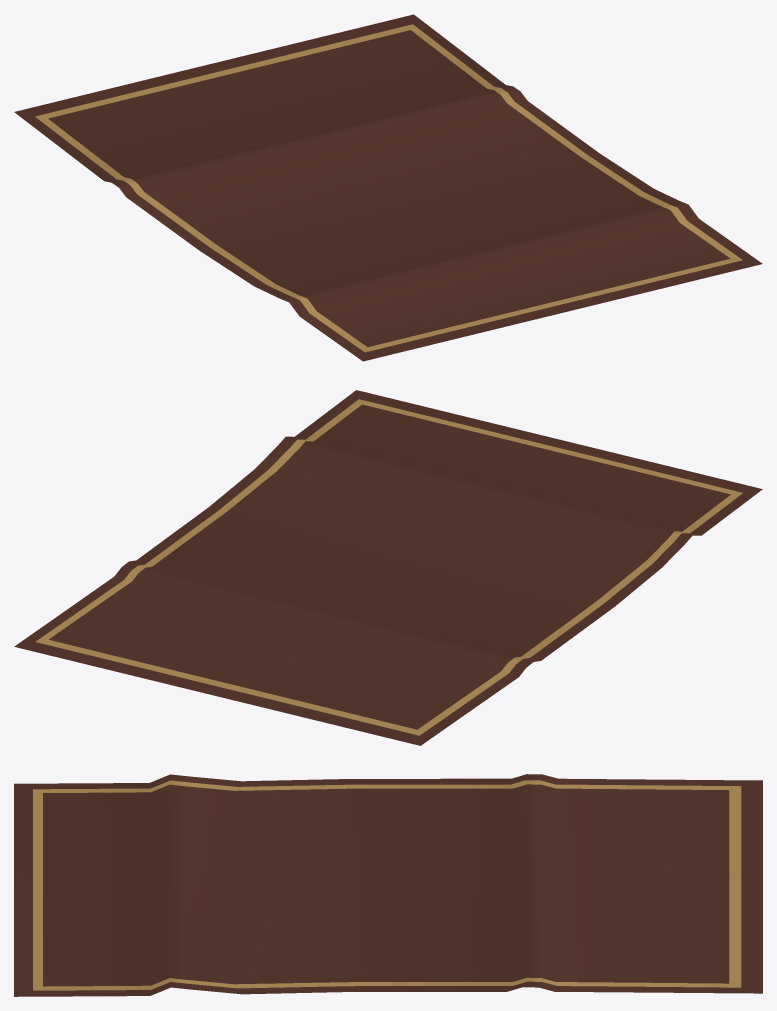
Rendered from Carpet_1.gltf.
3 views of the same model, one above another, from view 1: azimuth 30°, elevation 25°; view 2: azimuth 150°, elevation 25°; view 3: azimuth 270°, elevation 25° (orthographic). The views are drawn at different scales.
Visible parts, largest first — view 1: Carpet_1; view 2: Carpet_1; view 3: Carpet_1.
Boxes of the visible parts, bbox=[...] form: Carpet_1: bbox=[14, 14, 762, 361]; Carpet_1: bbox=[14, 390, 762, 745]; Carpet_1: bbox=[14, 774, 762, 996].
Bounding box in the file's own units: 2.13 × 0.0367 × 3.09.
